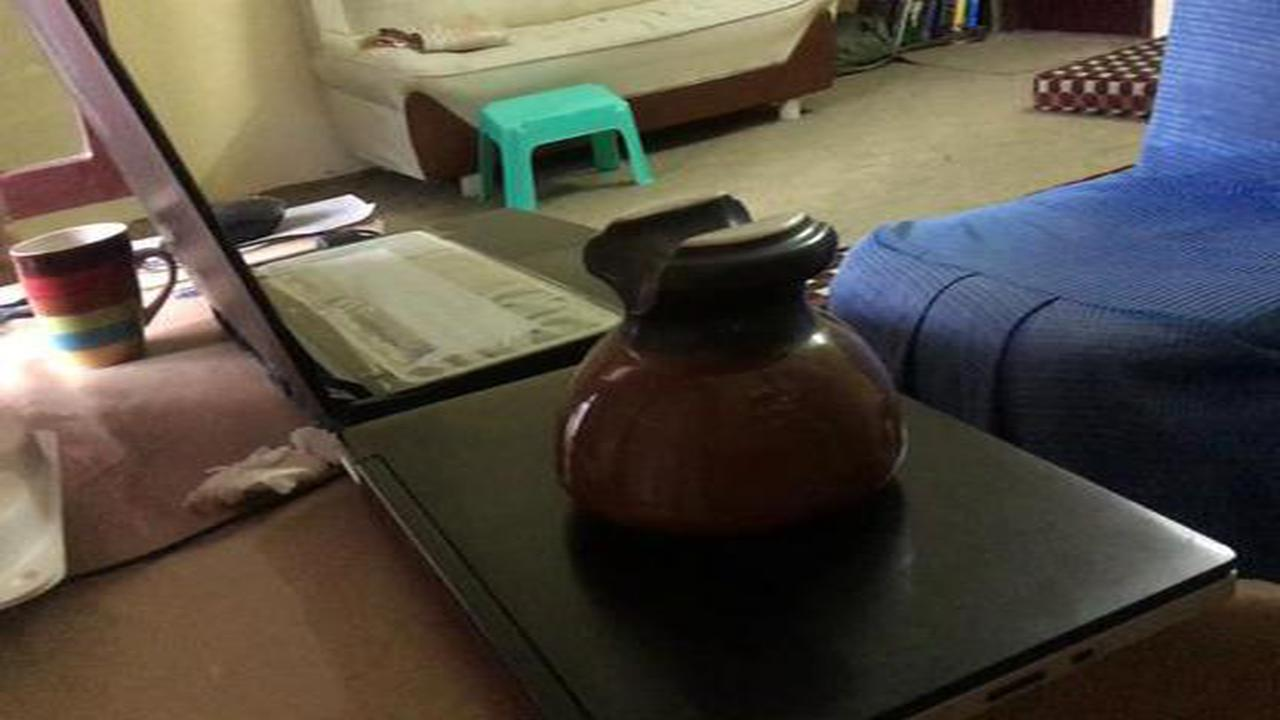insulator_pin: (530, 186, 924, 565)
